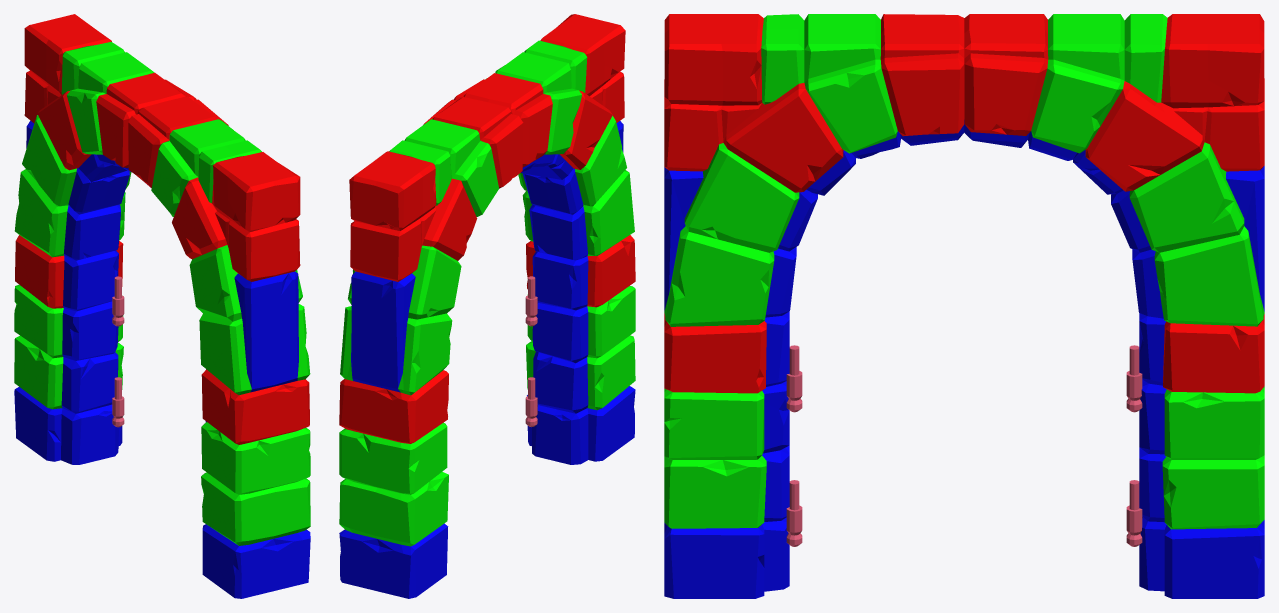
File: SM_Gate_1_2.fbx
The picture shows the model from 3 angles, left to right: view 1: azimuth 30°, elevation 25°; view 2: azimuth 150°, elevation 25°; view 3: azimuth 270°, elevation 25°; orthographic projection. The views are drawn at different scales.
Parts seen in each view (by area): view 1: Mesh; view 2: Mesh; view 3: Mesh.
Part boxes in pixels (x1,y1,x2,y2): Mesh: (14,14,310,598); Mesh: (339,14,635,598); Mesh: (664,14,1264,598).
Bounding box in the file's own units: 116 × 602 × 601.
